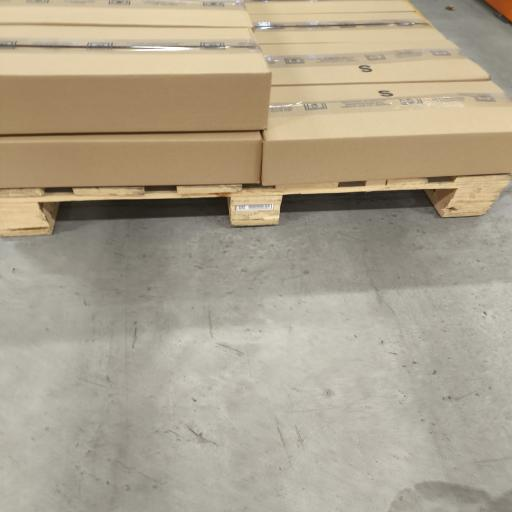pallet: (0, 174, 511, 236)
